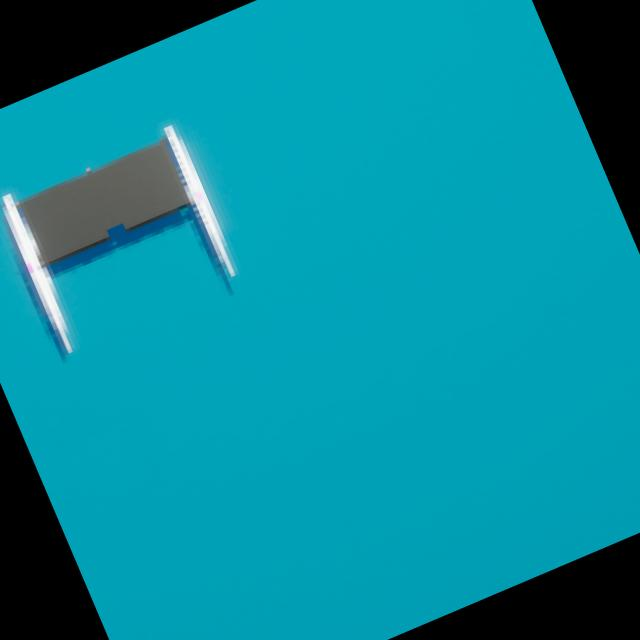boat: (0, 115, 249, 366)
drone: (21, 144, 188, 262)
